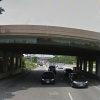Bridge: (4, 16, 96, 65)
